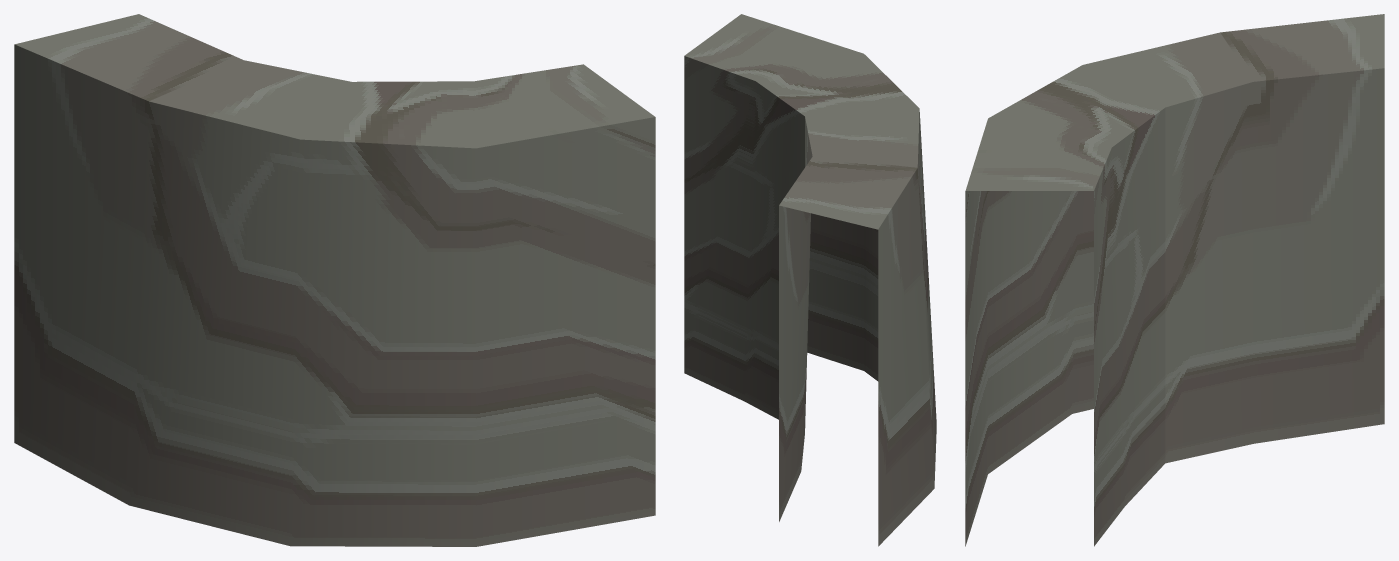
Rendered from wall_curve_col.glb.
3 renders of one model, left to right at view 1: azimuth 30°, elevation 25°; view 2: azimuth 150°, elevation 25°; view 3: azimuth 270°, elevation 25°, orthographic. The views are drawn at different scales.
Parts seen in each view (by area): view 1: wal_curve_col; view 2: wal_curve_col; view 3: wal_curve_col.
Part boxes in pixels (bbox=[...]): wal_curve_col: bbox=[14, 14, 655, 546]; wal_curve_col: bbox=[684, 14, 936, 546]; wal_curve_col: bbox=[965, 14, 1384, 546].
Bounding box in the file's own units: 1.18 × 1.11 × 1.18.
Materials: 1 (1 with a texture image).
